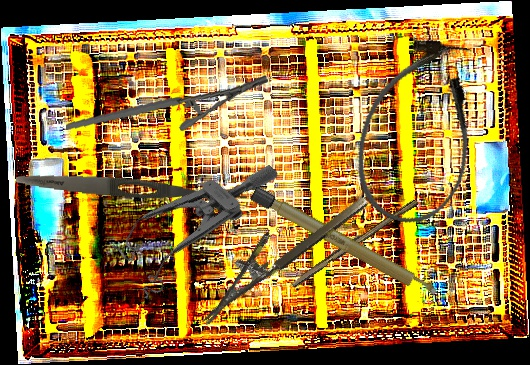Cannula: (341, 27, 497, 235)
Dressing Forceps: (15, 169, 250, 207)
Needle Holder: (182, 173, 372, 327), (65, 53, 269, 151)
Scalpel Handle: (247, 184, 445, 305), (289, 194, 419, 291)
Speculum: (100, 121, 280, 312)
